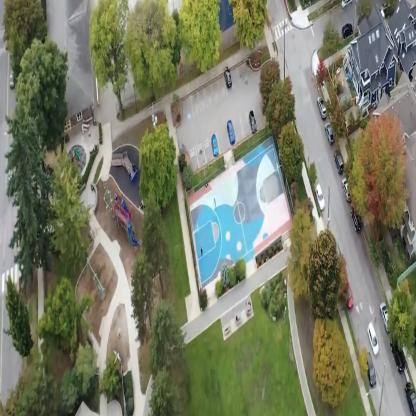Coniferous Tree: (6, 117, 53, 268), (2, 278, 33, 360), (153, 300, 179, 370), (150, 363, 185, 410)
Deciduous Tree: (354, 110, 407, 250), (16, 16, 66, 164), (90, 0, 132, 116), (130, 0, 179, 92), (312, 314, 355, 395), (289, 208, 319, 306), (139, 128, 179, 196), (143, 196, 168, 299), (180, 0, 216, 70), (311, 238, 343, 316), (2, 5, 45, 63), (3, 373, 49, 416), (46, 286, 77, 348), (388, 280, 416, 342), (263, 79, 300, 124), (132, 254, 149, 350), (232, 0, 264, 44), (280, 126, 305, 178), (260, 59, 277, 96)
